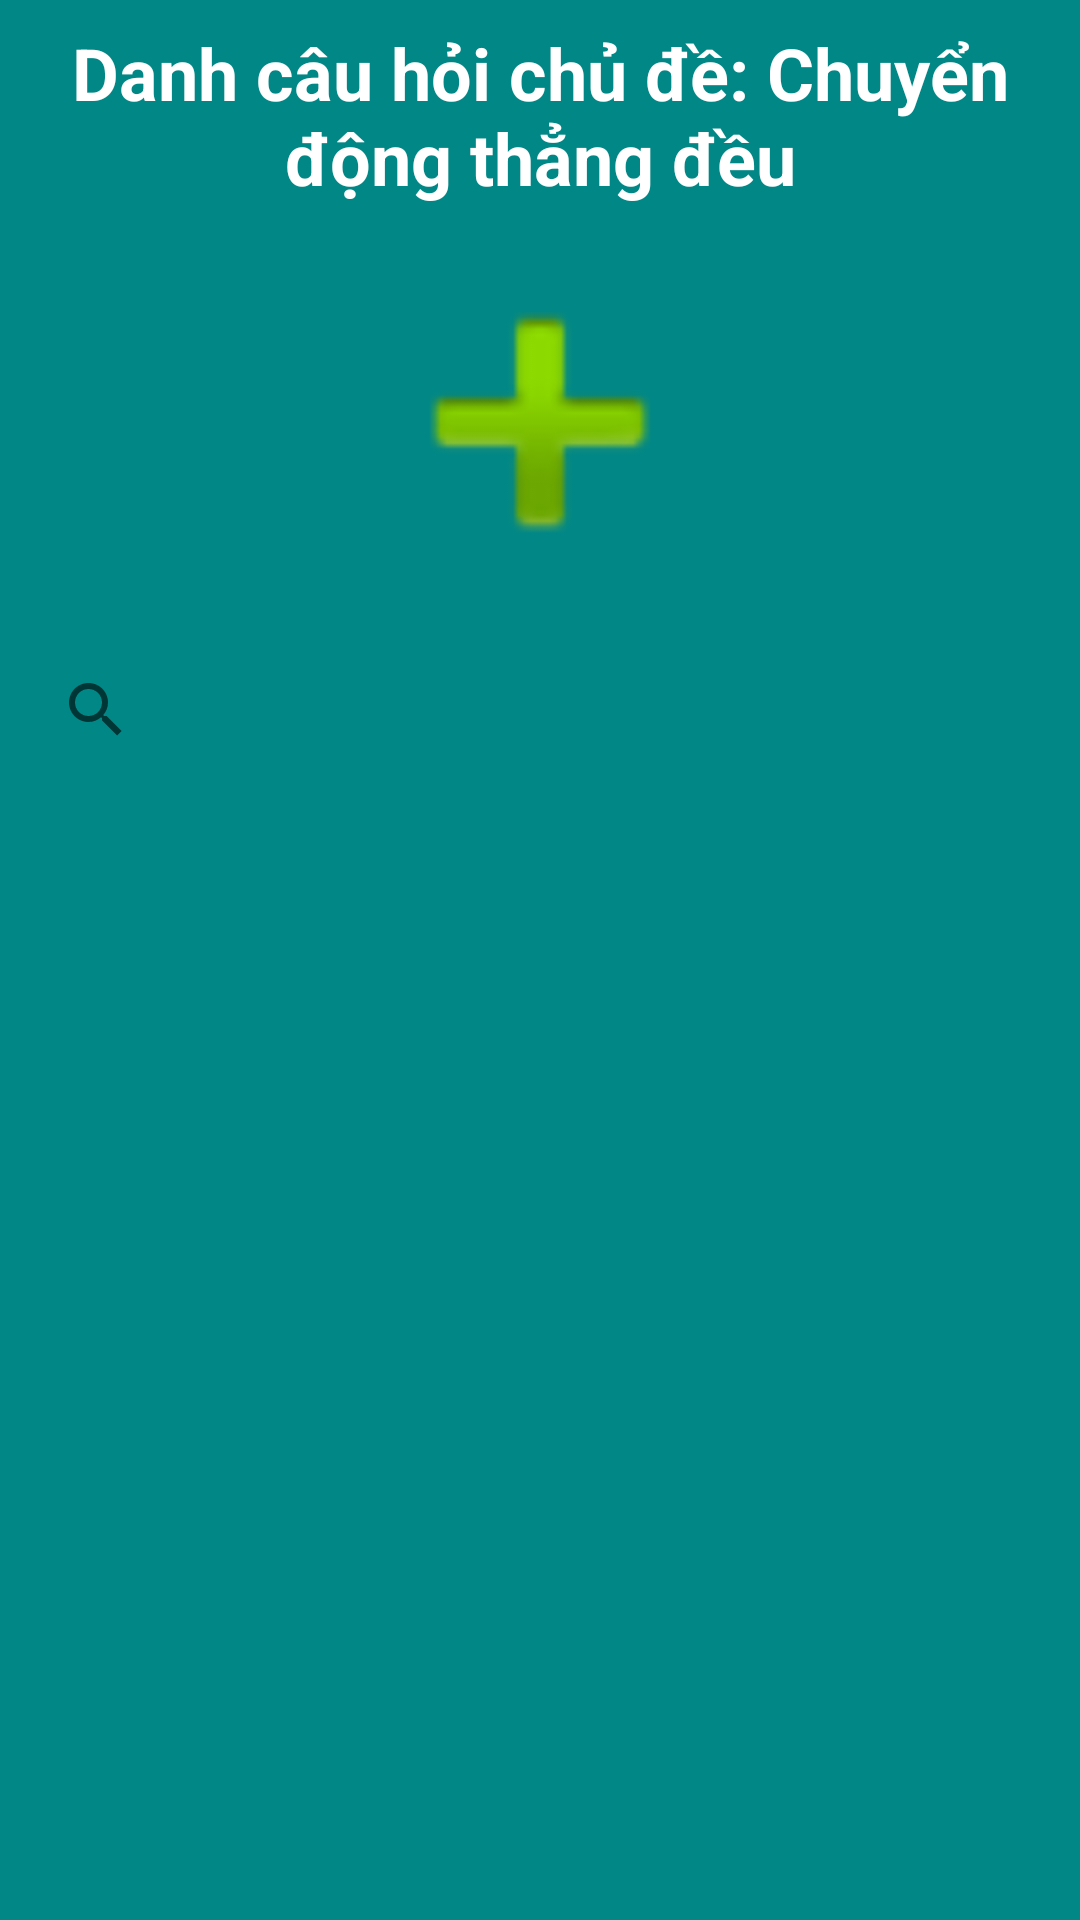

Where icons sit on this 1080×1920 app screen, as (x1, y1, x2, y2):
add: (432, 314, 648, 530)
